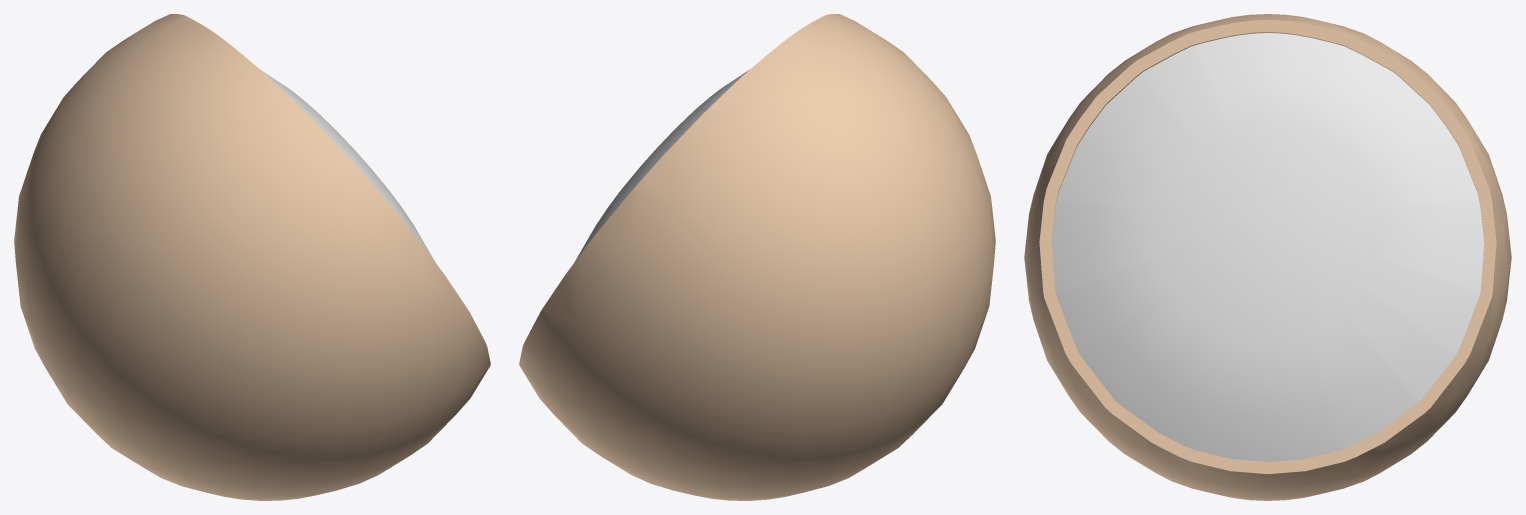
Rendered from BigMirror.fbx.
3 renders of one model, left to right at view 1: azimuth 30°, elevation 25°; view 2: azimuth 150°, elevation 25°; view 3: azimuth 270°, elevation 25°, orthographic. The views are drawn at different scales.
Visible parts, largest first — view 1: Sphere; view 2: Sphere; view 3: Sphere.
Boxes of the visible parts, x1=… form: Sphere: x1=14, y1=14, x2=490, y2=500; Sphere: x1=519, y1=14, x2=995, y2=500; Sphere: x1=1024, y1=14, x2=1511, y2=500.
Size of the model in its own units: 457 by 506 by 513.
